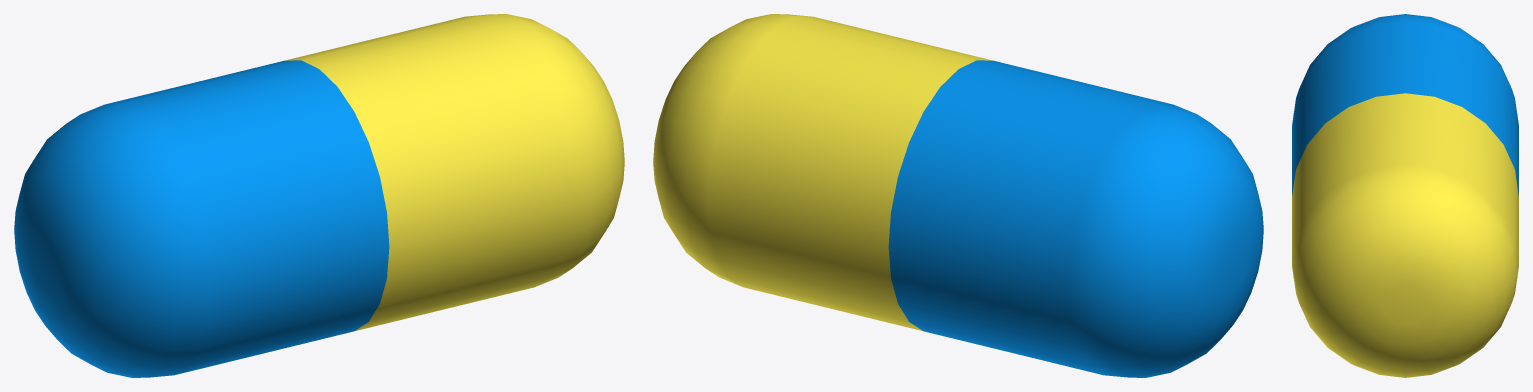
File: Store_15_Pill_8.glb
The picture shows the model from 3 angles, left to right: view 1: azimuth 30°, elevation 25°; view 2: azimuth 150°, elevation 25°; view 3: azimuth 270°, elevation 25°; orthographic projection. The views are drawn at different scales.
Visible parts, largest first — view 1: Store_15_Pill_8; view 2: Store_15_Pill_8; view 3: Store_15_Pill_8.
Part boxes in pixels (<box>): Store_15_Pill_8: <box>14,14,624,377</box>; Store_15_Pill_8: <box>653,14,1263,377</box>; Store_15_Pill_8: <box>1292,14,1518,377</box>.
Size of the model in its own units: 1.76 by 0.7695 by 0.7695.
1 material, 1 textured.
